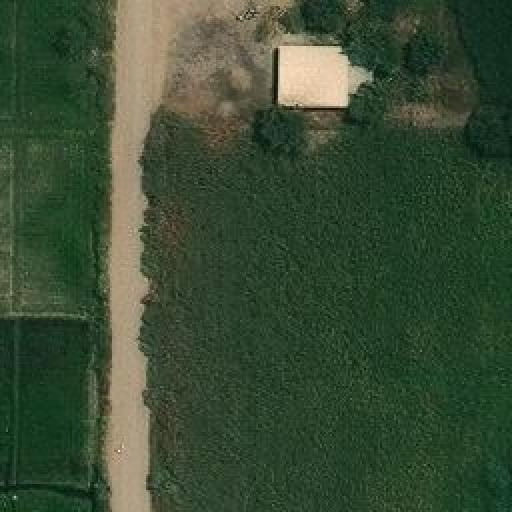manzanas: (276, 45, 380, 109)
